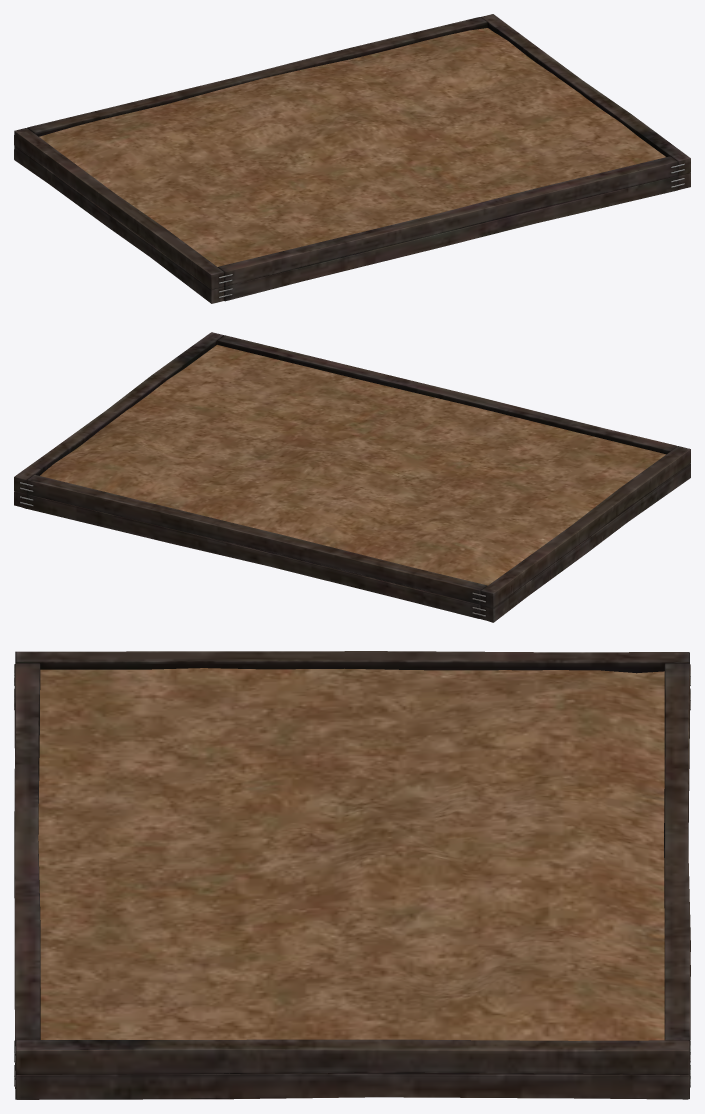
The model's file is SM_Loggingcamp_Fence_8e7daa.glb.
3 renders of one model, top to bottom at view 1: azimuth 30°, elevation 25°; view 2: azimuth 150°, elevation 25°; view 3: azimuth 270°, elevation 25°, orthographic. The views are drawn at different scales.
Bounding box in the file's own units: 6.53 × 0.4796 × 4.67.
2 materials, 2 textured.
